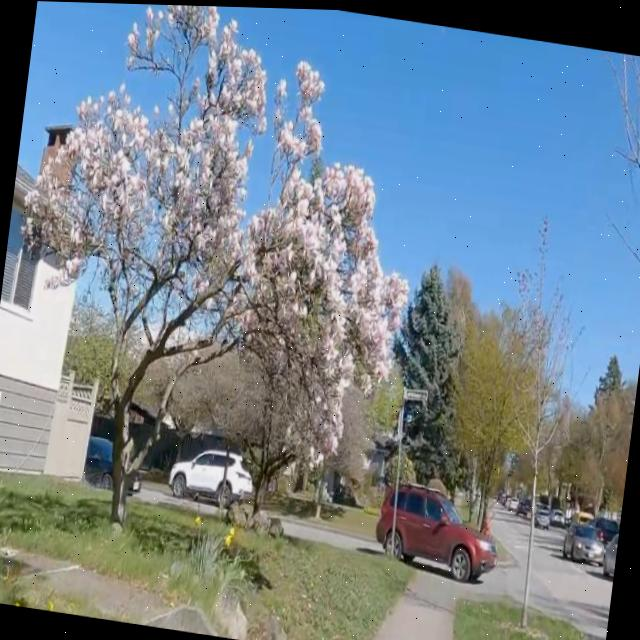Automobile: (375, 480, 496, 578), (167, 448, 251, 506), (562, 519, 603, 558), (83, 435, 112, 486), (589, 513, 619, 541), (603, 529, 618, 575), (534, 504, 548, 524), (549, 507, 563, 524), (128, 475, 140, 493), (507, 495, 517, 508)
Road: (530, 525, 613, 640), (282, 513, 381, 547), (492, 504, 527, 596), (149, 487, 215, 512)
Sidewalk: (370, 565, 506, 640)
